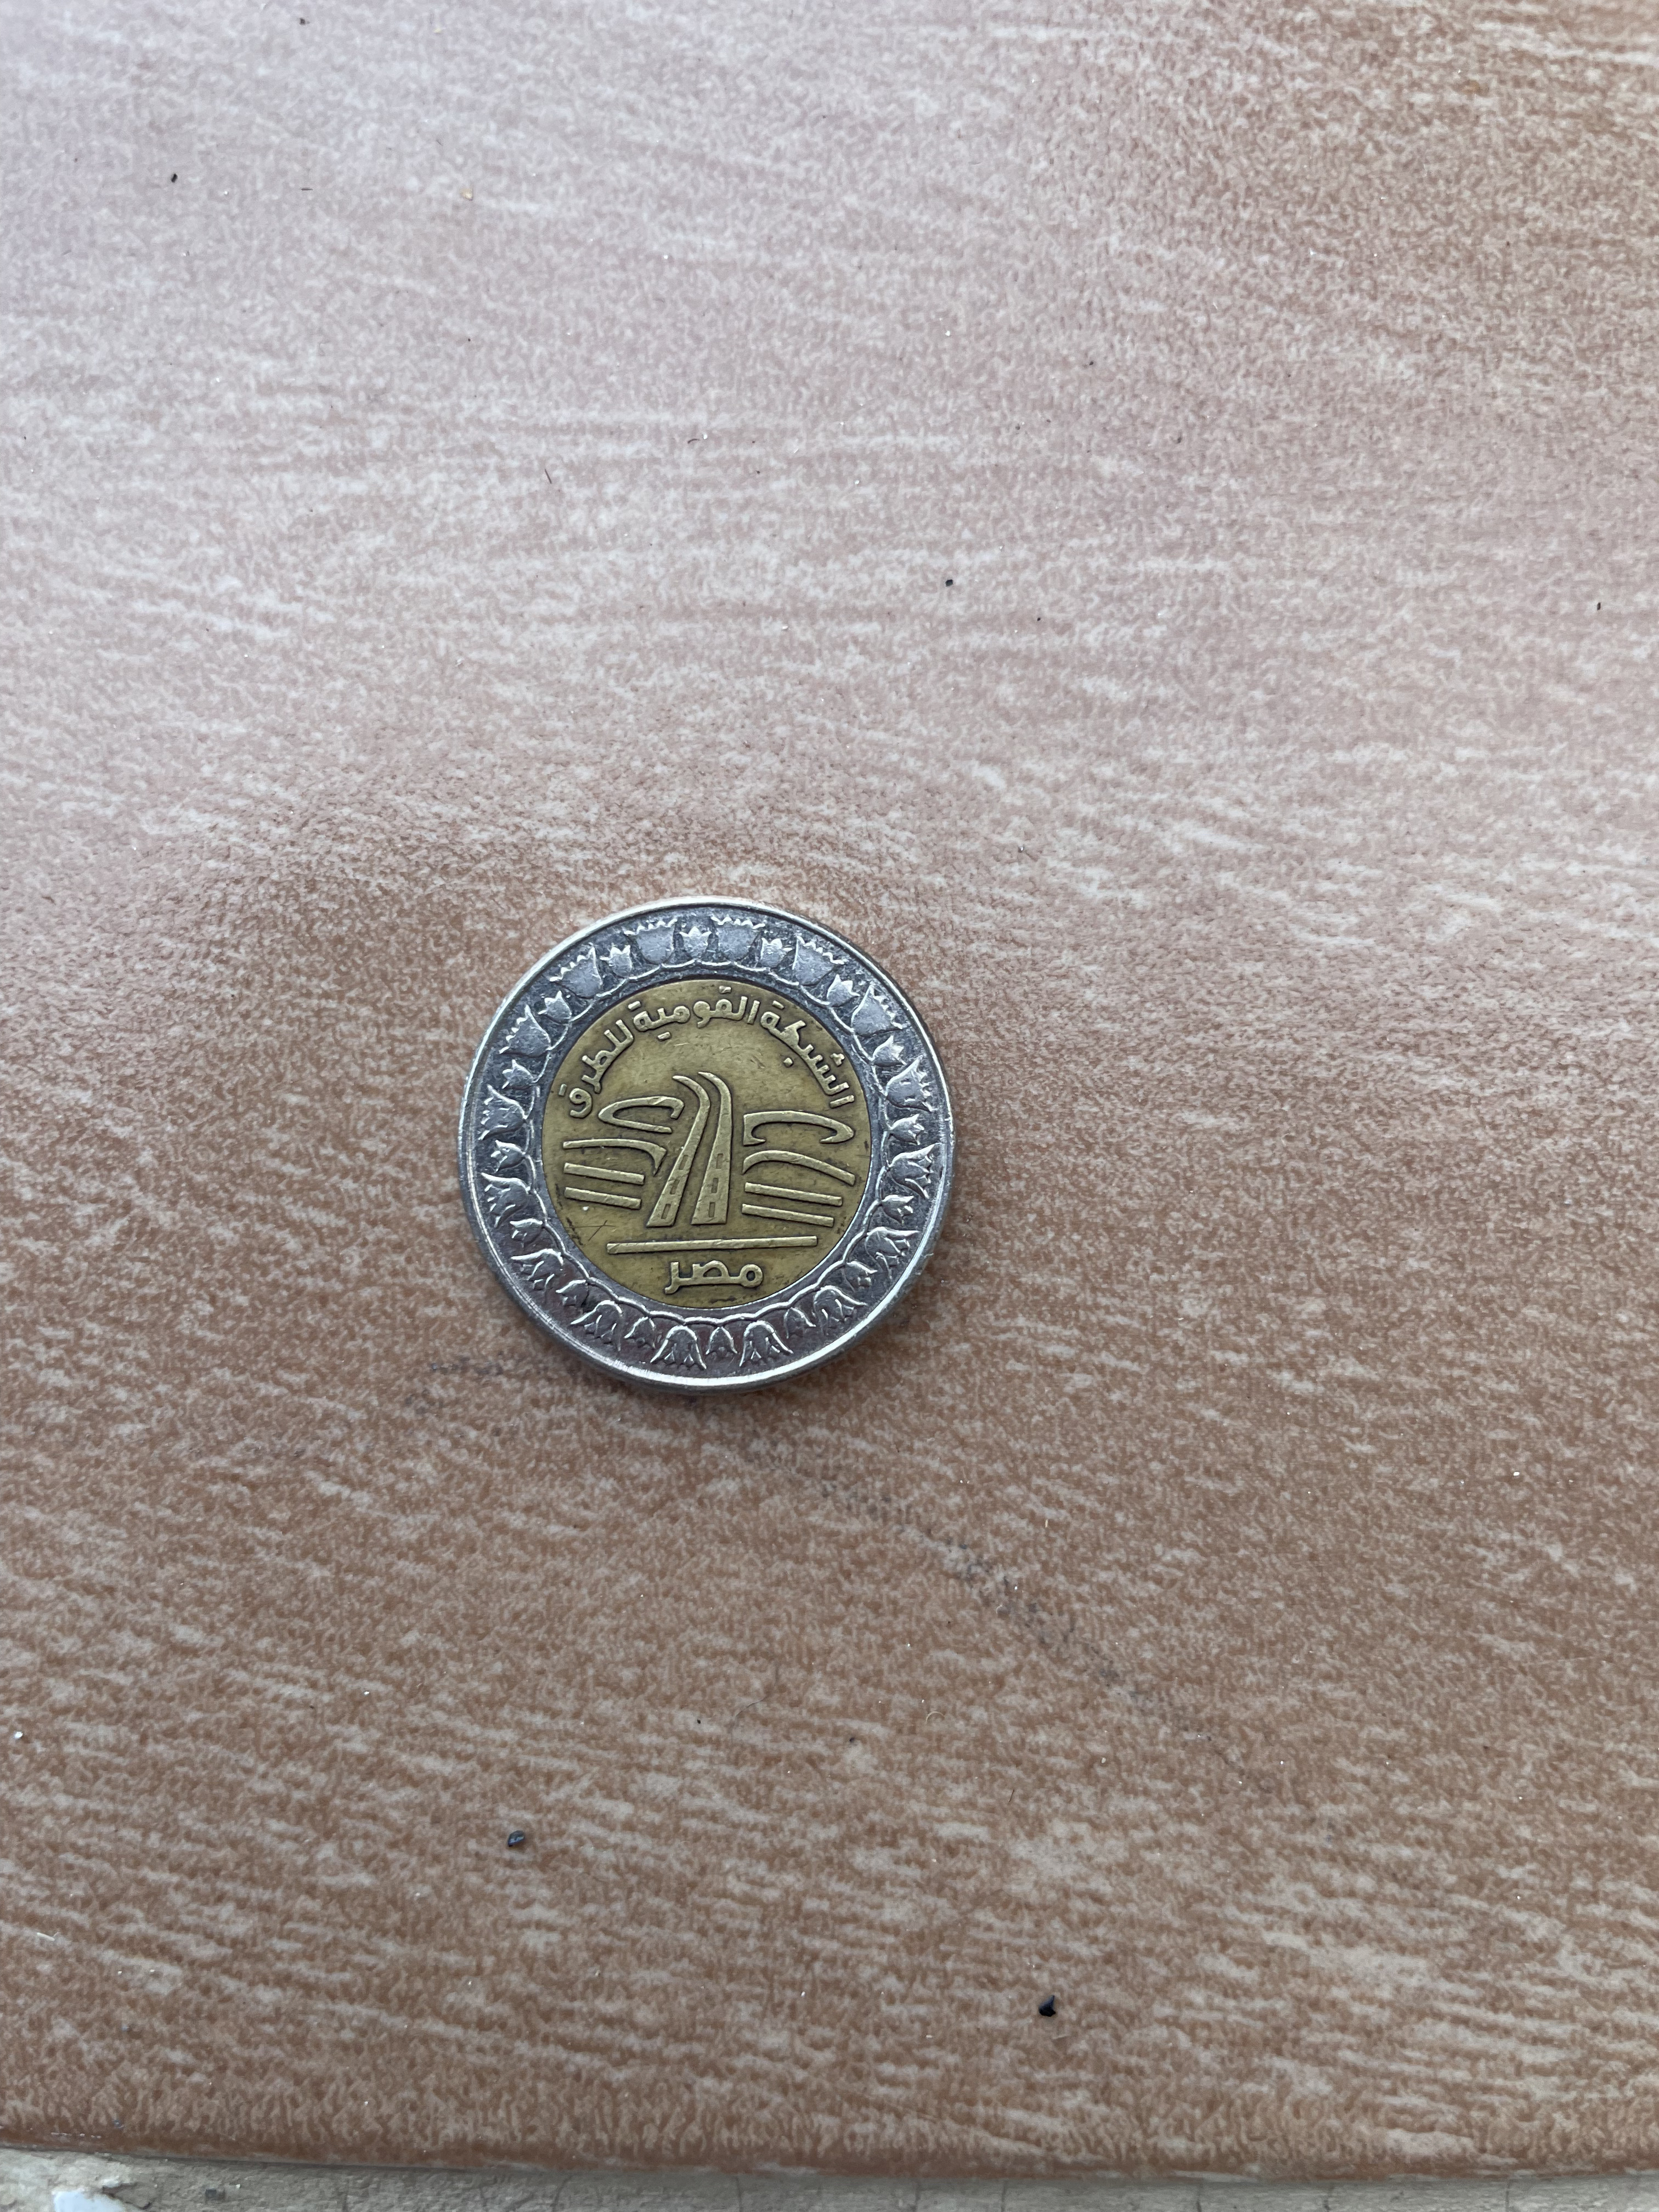one: (457, 897, 965, 1420)
